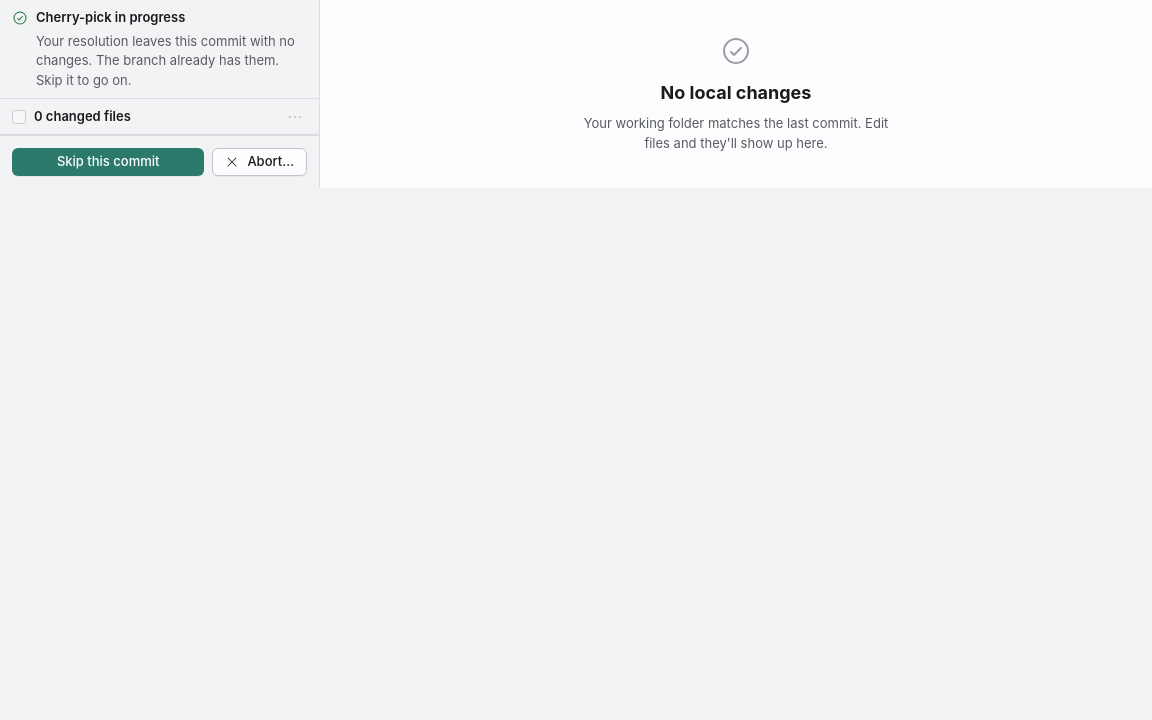
it: conflict resolution › skips a commit resolved to nothing
The width and height of the screenshot is (1152, 720).
Check: the text "leaves this commit with no changes" is shown, box 36,32 -> 295,88
Step 1. Click the button "Skip this commit" → (108, 162), box 12,148 -> 204,176
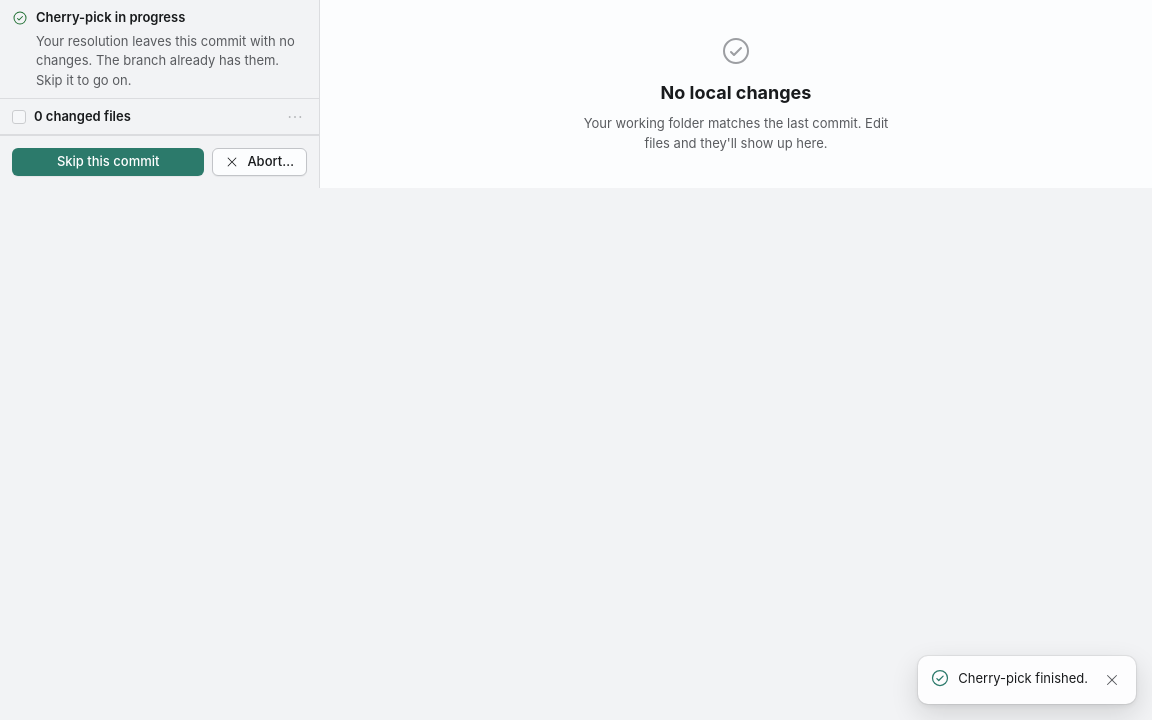
Check: the text "Cherry-pick finished." is shown, box 958,669 -> 1088,688
